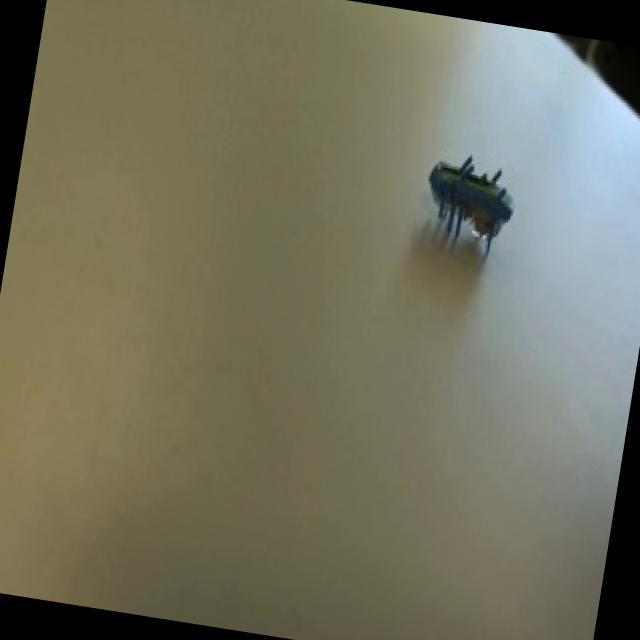3_NanoBug_Celeste: (399, 120, 552, 310)
